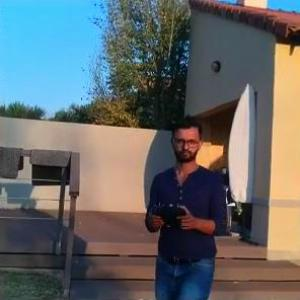follow: (141, 109, 231, 299)
